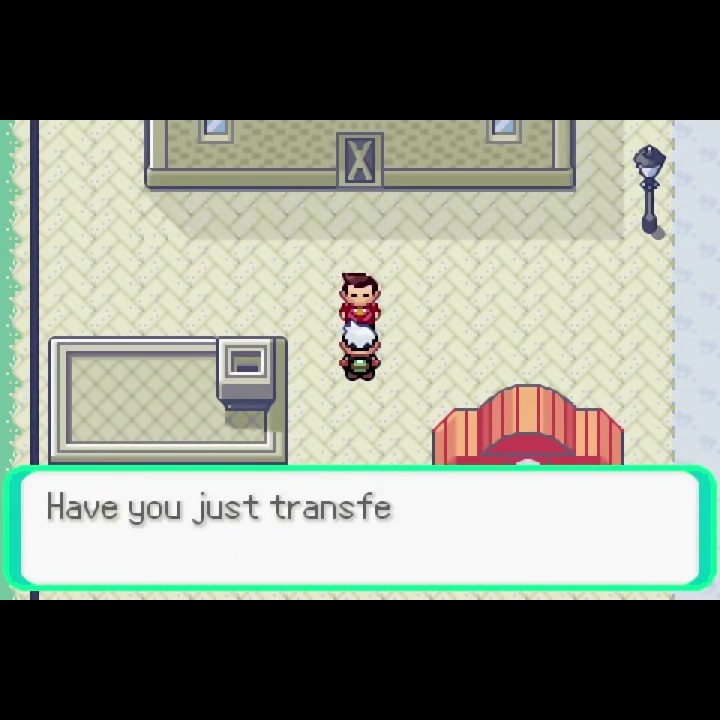agent: (336, 321, 382, 385)
house: (46, 333, 292, 463), (142, 120, 578, 193)
npc: (337, 268, 383, 327)
pokecen: (428, 380, 628, 465)
